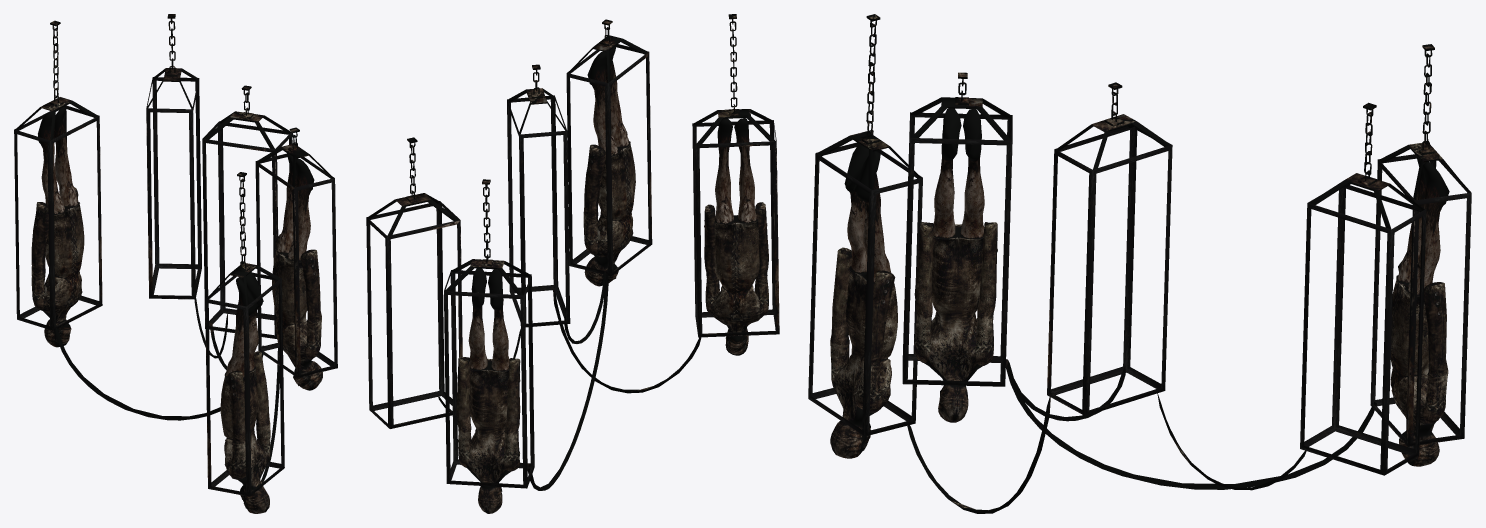
File: bodies.fbx
3 renders of one model, left to right at view 1: azimuth 30°, elevation 25°; view 2: azimuth 150°, elevation 25°; view 3: azimuth 270°, elevation 25°, orthographic. The views are drawn at different scales.
Visible parts, largest first — view 1: unnamed_ob1; view 2: unnamed_ob1; view 3: unnamed_ob1.
Boxes of the visible parts, left/top/right/bottom form: unnamed_ob1: left=14, top=14, right=337, bottom=513; unnamed_ob1: left=366, top=14, right=779, bottom=513; unnamed_ob1: left=808, top=14, right=1471, bottom=513.
Size of the model in its own units: 1.31 by 2.25 by 2.95.
